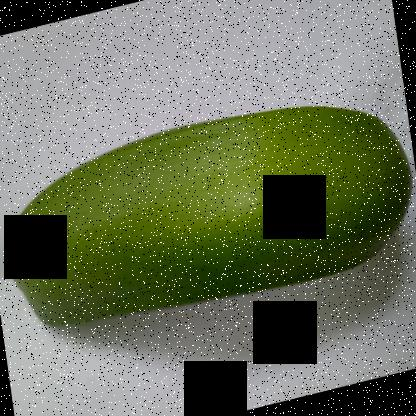freshunripe: (1, 95, 412, 342)
